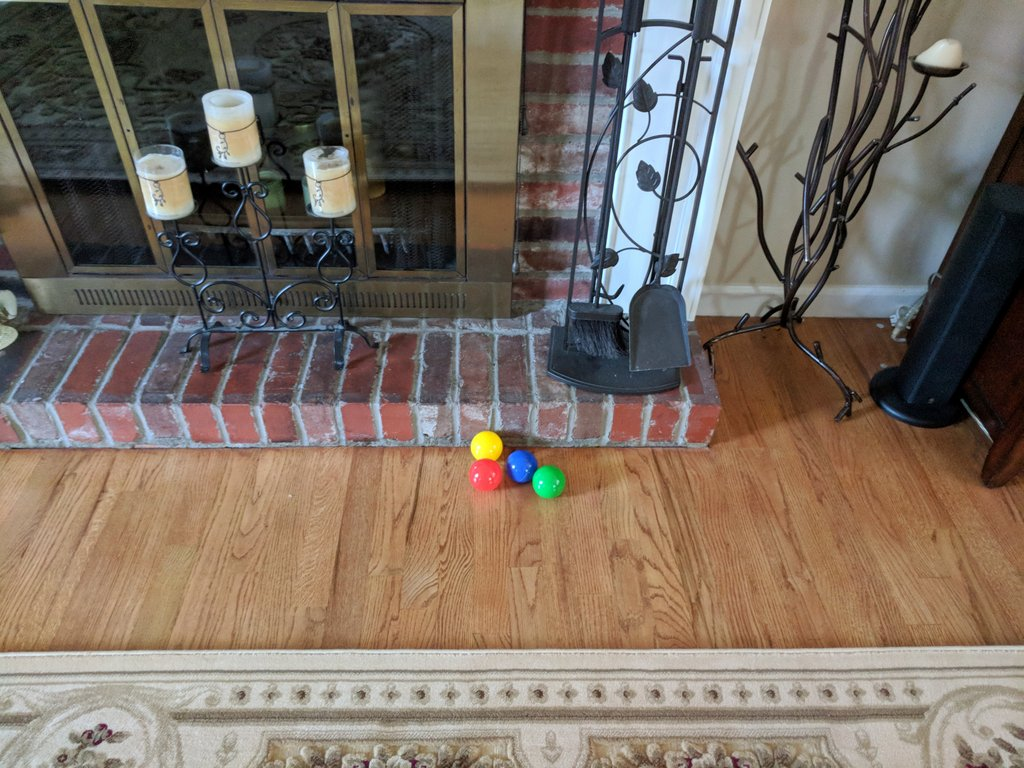ball: (507, 449, 537, 486)
